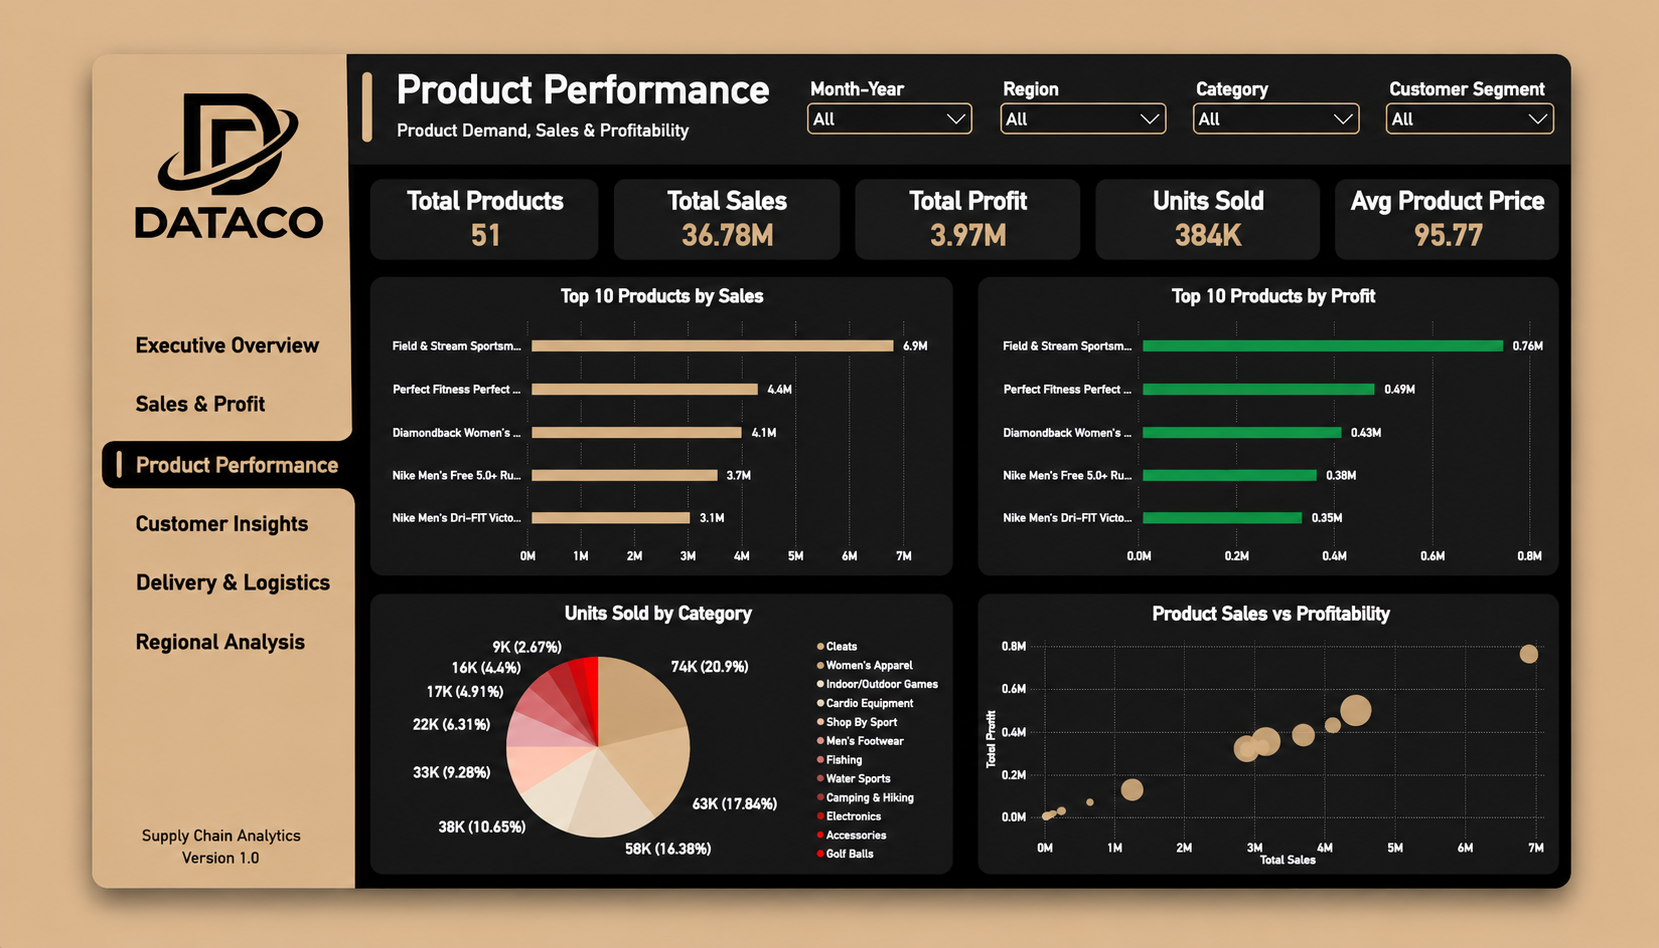

The page's visual inventory and layout, read from the dashboard file:
{"tool":"powerbi","page":{"name":"Product Performance","canvas":[2560,1440],"ordinal":2},"visuals":[{"type":"shape","box":[0,0,520,1440],"z":0},{"type":"image","box":[34.2,63.2,450,294.7],"z":1000},{"type":"shape","box":[25.8,670.8,499.2,80],"z":2000},{"type":"textbox","box":[81.6,478.9,371.1,68.4],"z":3000},{"type":"textbox","box":[81.9,583.8,371.1,68.7],"z":4000},{"type":"textbox","box":[81.9,688.8,386.7,68.7],"z":5000},{"type":"textbox","box":[81.9,793.9,372.3,69.9],"z":6000},{"type":"textbox","box":[81.9,900.2,372.3,68.7],"z":7000},{"type":"textbox","box":[81.6,1005.3,371.1,68.4],"z":8000},{"type":"textbox","box":[101.8,1346.4,304.5,43.6],"z":9000},{"type":"textbox","box":[172.7,1387.3,157.3,50],"z":10000},{"type":"actionButton","box":[74.6,583.1,255.9,61],"z":11000},{"type":"actionButton","box":[65.8,573.3,264.2,71.7],"z":12000},{"type":"actionButton","box":[81.4,779.7,344.4,71.4],"z":13000},{"type":"actionButton","box":[78,898.3,376.2,71.4],"z":14000},{"type":"actionButton","box":[72.9,1001.7,352.4,71.4],"z":15000},{"type":"actionButton","box":[70,469.2,361.7,71.7],"z":16000},{"type":"shape","box":[50,682.5,11.7,56.7],"z":17000},{"type":"image","box":[438.9,631.1,130,48.9],"z":18000},{"type":"image","box":[440,740.9,130,48.2],"z":19000},{"type":"shape","box":[520,0,2040,192.5],"z":20000},{"type":"shape","box":[520,10,2040,192.5],"z":21000},{"type":"textbox","box":[602.5,32.5,627.5,212.5],"z":22000},{"type":"textbox","box":[604.9,117.1,641.5,53.7],"z":23000},{"type":"shape","box":[553.3,38.9,16.7,115.6],"z":24000},{"type":"shape","box":[2251,87,282,52],"z":25000},{"type":"shape","box":[1921.4,86.4,277.9,52.1],"z":26000},{"type":"shape","box":[1591.4,86.4,277.9,52.1],"z":27000},{"type":"shape","box":[1260.8,87.5,278,52.5],"z":28000},{"type":"slicer","fields":{"Values":["supply_chain_ops dataco_cleaned.Customer Segment"]},"box":[2249,50,284,324],"z":29000},{"type":"slicer","fields":{"Values":["supply_chain_ops dataco_cleaned.Category Name"]},"box":[1920,48.8,280,322],"z":30000},{"type":"slicer","fields":{"Values":["supply_chain_ops dataco_cleaned.Order Region"]},"box":[1590,48.8,280,322],"z":31000},{"type":"slicer","fields":{"Values":["supply_chain_ops dataco_cleaned.Month-Year"]},"box":[1260,50,280,320],"z":32000},{"type":"cardVisual","fields":{"Data":["MeasureTable.Total Sales"]},"box":[955.2,230,370,130],"z":33000},{"type":"cardVisual","fields":{"Data":["MeasureTable.Total Profit"]},"box":[1357.9,228.8,370,130],"z":34000},{"type":"cardVisual","title":"Total Products","fields":{"Data":["Count(supply_chain_ops dataco_cleaned.Product Category Id)"]},"box":[552.5,230,370,130],"z":35000},{"type":"cardVisual","fields":{"Data":["MeasureTable.Units Sold"]},"box":[1760.6,230,370,130],"z":36000},{"type":"cardVisual","fields":{"Data":["MeasureTable.Average Product Price"]},"box":[2163.3,230,370,130],"z":37000},{"type":"clusteredBarChart","title":"Top 10 Products by Sales","fields":{"Category":["supply_chain_ops dataco_cleaned.Product Name"],"Y":["MeasureTable.Total Sales"]},"box":[552.5,390,967,510],"z":38000},{"type":"shape","box":[1485,460,30,395],"z":39000},{"type":"clusteredBarChart","title":"Top 10 Products by Profit","fields":{"Category":["supply_chain_ops dataco_cleaned.Product Name"],"Y":["MeasureTable.Total Profit"]},"box":[1560,390,967.5,510],"z":40000},{"type":"shape","box":[2497.5,460,30,395],"z":41000},{"type":"pieChart","title":"Units Sold by Category","fields":{"Category":["supply_chain_ops dataco_cleaned.Category Name"],"Y":["MeasureTable.Units Sold"]},"box":[552.5,935,967.5,477.5],"z":42000},{"type":"scatterChart","title":"Product Sales vs Profitablity","fields":{"Category":["supply_chain_ops dataco_cleaned.Product Name"],"Size":["MeasureTable.Units Sold"],"X":["MeasureTable.Total Sales"],"Y":["MeasureTable.Total Profit"]},"box":[1560,935,968,478],"z":43000}]}

Visuals, with their boxes in screenshot pixels (x1, y1, x2, y2), scaled from the page's 2560x1440 canvas onto the 1659x948 screenshot:
shape: 0:0:337:947
image: 22:42:314:236
shape: 17:442:340:494
textbox: 53:315:293:360
textbox: 53:384:294:430
textbox: 53:453:304:499
textbox: 53:523:294:569
textbox: 53:593:294:638
textbox: 53:662:293:707
textbox: 66:886:263:915
textbox: 112:913:214:946
actionButton: 48:384:214:424
actionButton: 43:377:214:425
actionButton: 53:513:276:560
actionButton: 51:591:294:638
actionButton: 47:659:276:706
actionButton: 45:309:280:356
shape: 32:449:40:487
image: 284:415:369:448
image: 285:488:369:519
shape: 337:0:1658:127
shape: 337:7:1658:133
textbox: 390:21:797:161
textbox: 392:77:808:112
shape: 359:26:369:102
shape: 1459:57:1642:92
shape: 1245:57:1425:91
shape: 1031:57:1211:91
shape: 817:58:997:92
slicer - supply_chain_ops dataco_cleaned.Customer Segment: 1457:33:1642:246
slicer - supply_chain_ops dataco_cleaned.Category Name: 1244:32:1426:244
slicer - supply_chain_ops dataco_cleaned.Order Region: 1030:32:1212:244
slicer - supply_chain_ops dataco_cleaned.Month-Year: 817:33:998:244
cardVisual - MeasureTable.Total Sales: 619:151:859:237
cardVisual - MeasureTable.Total Profit: 880:151:1120:236
"Total Products" cardVisual: 358:151:598:237
cardVisual - MeasureTable.Units Sold: 1141:151:1381:237
cardVisual - MeasureTable.Average Product Price: 1402:151:1642:237
"Top 10 Products by Sales" clusteredBarChart: 358:257:985:592
shape: 962:303:982:563
"Top 10 Products by Profit" clusteredBarChart: 1011:257:1638:592
shape: 1618:303:1638:563
"Units Sold by Category" pieChart: 358:616:985:930
"Product Sales vs Profitablity" scatterChart: 1011:616:1638:930
